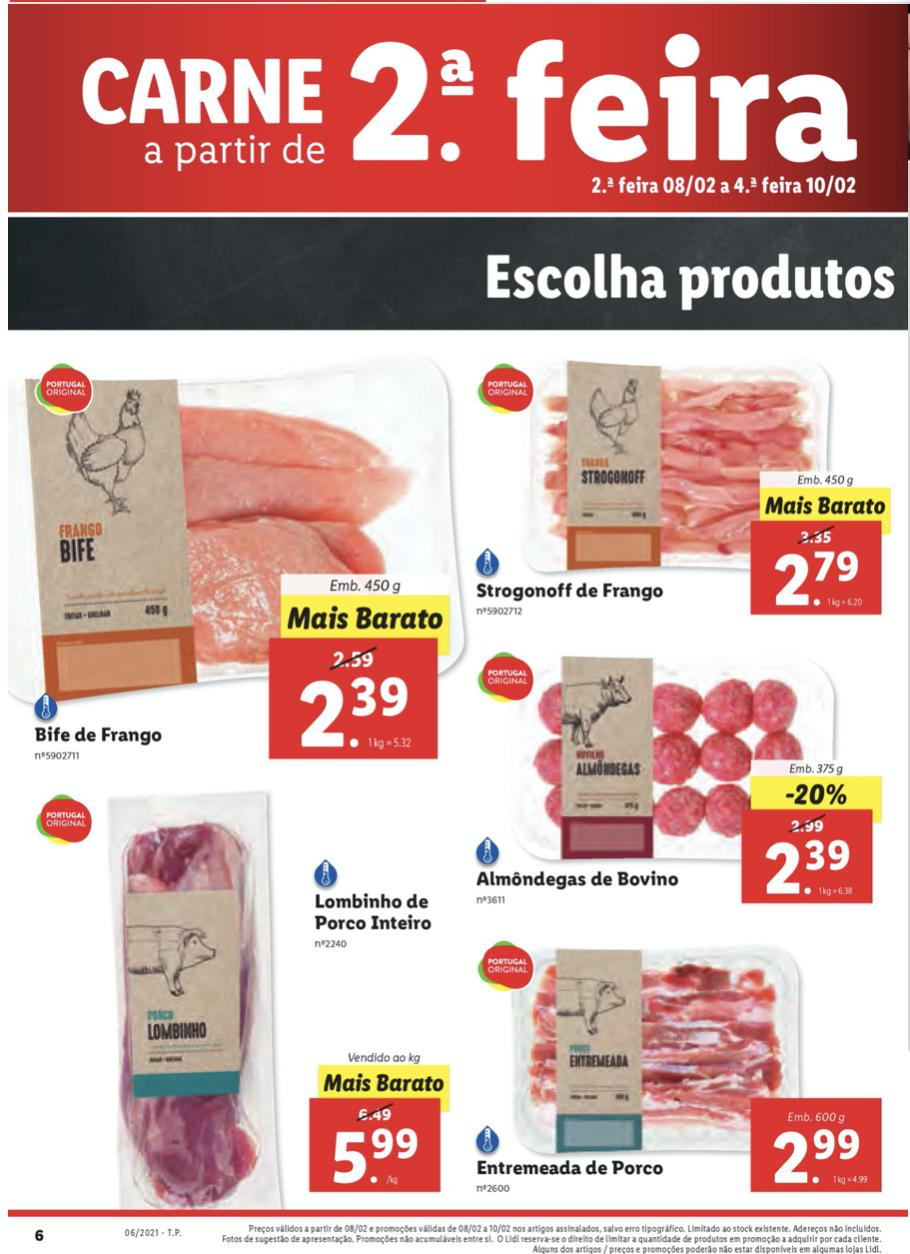name: (470, 574, 673, 609), (475, 862, 681, 893), (467, 1153, 670, 1182), (305, 892, 440, 935), (25, 718, 167, 753)
price: (290, 670, 425, 756), (765, 542, 873, 617), (762, 829, 861, 903), (323, 1126, 426, 1196), (772, 1126, 878, 1193)
product: (14, 338, 465, 770), (14, 770, 453, 1199), (464, 348, 901, 635), (464, 635, 895, 923), (453, 923, 895, 1199)
